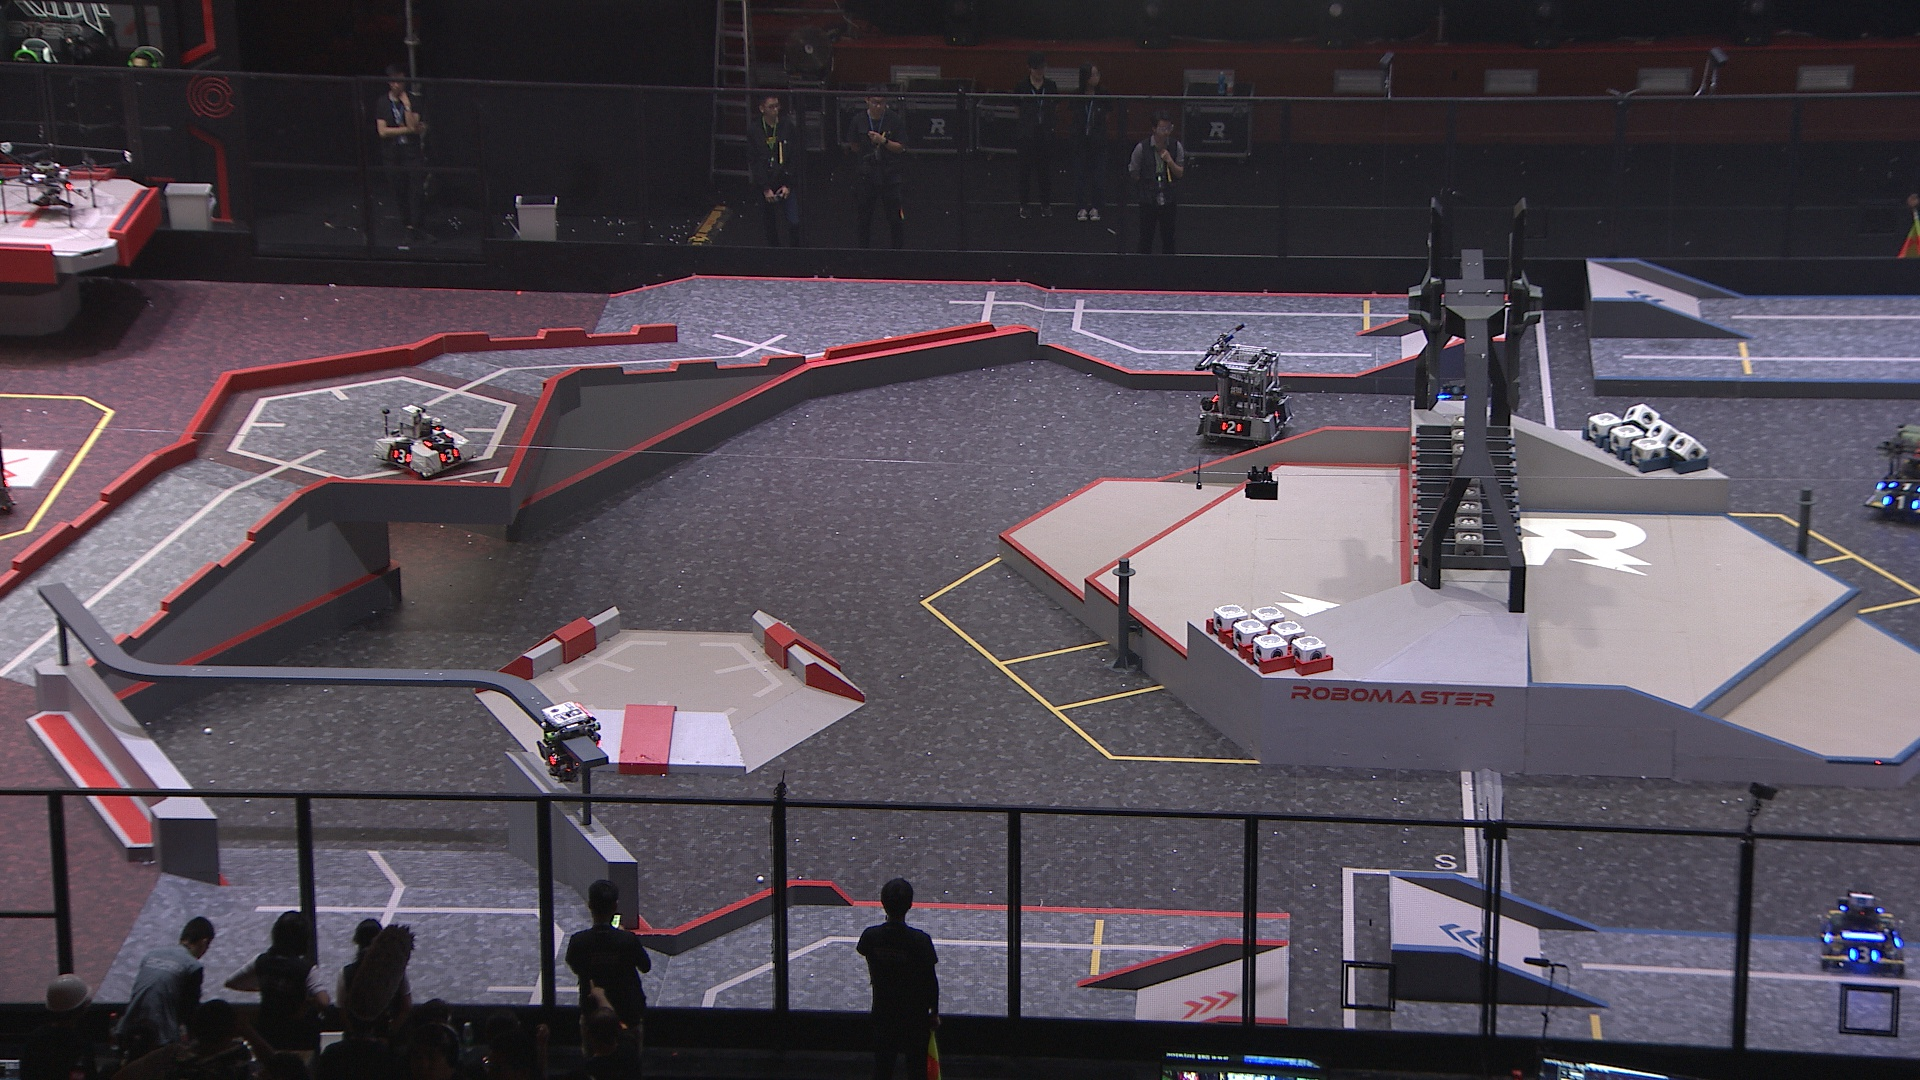armor: (1849, 940, 1883, 968), (1880, 493, 1920, 514), (534, 738, 560, 766), (418, 429, 452, 448), (1218, 415, 1244, 438), (1888, 477, 1920, 495), (438, 444, 463, 465), (392, 446, 411, 467), (1267, 407, 1287, 427)
car: (1195, 342, 1295, 450), (372, 396, 477, 480), (1815, 887, 1912, 978), (1865, 419, 1920, 524)
watcher: (531, 699, 603, 787)
